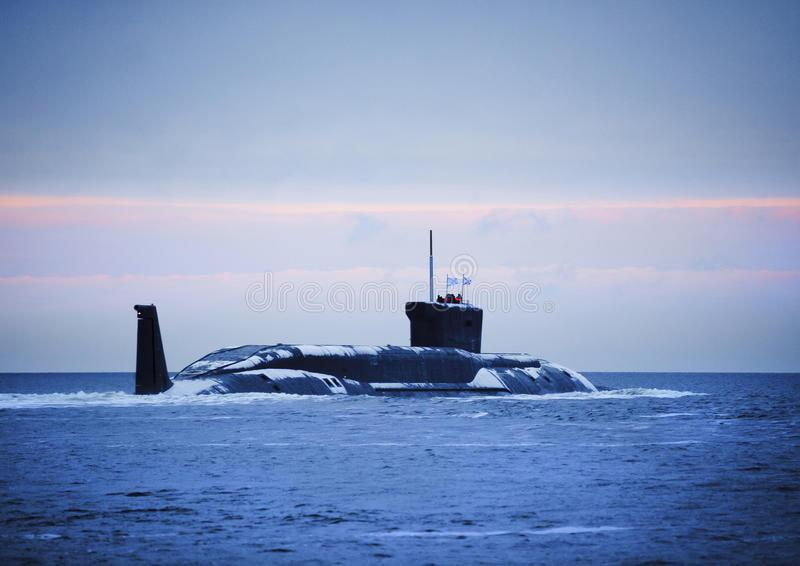Submarine: (93, 213, 683, 521)
